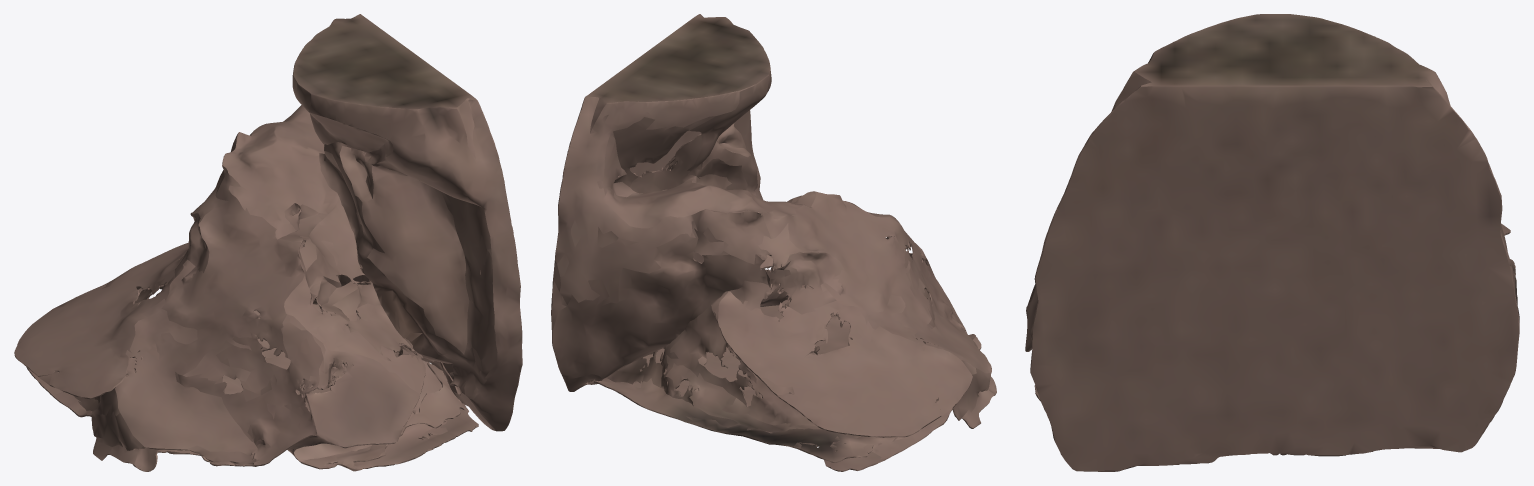
3 views of the same model, side by side, from view 1: azimuth 30°, elevation 25°; view 2: azimuth 150°, elevation 25°; view 3: azimuth 270°, elevation 25° (orthographic). The views are drawn at different scales.
Parts seen in each view (by area): view 1: world; view 2: world; view 3: world.
Part boxes in pixels (x1=…): world: x1=14, y1=14, x2=522, y2=471; world: x1=551, y1=14, x2=996, y2=471; world: x1=1025, y1=14, x2=1519, y2=471.
Size of the model in its own units: 0.35 by 0.3021 by 0.3503.
1 material, 1 textured.
